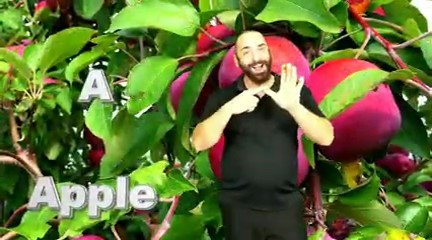A: (220, 61, 307, 112)
